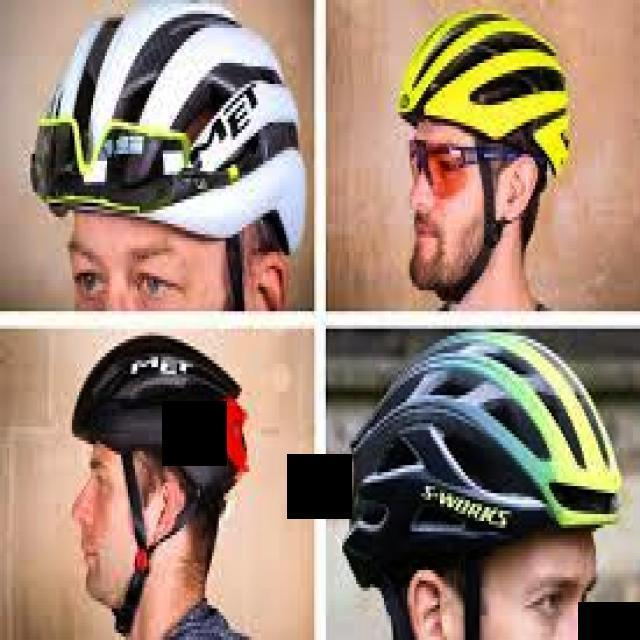helmet: (333, 325, 640, 582), (25, 9, 310, 268), (31, 321, 267, 500), (381, 22, 611, 162)
